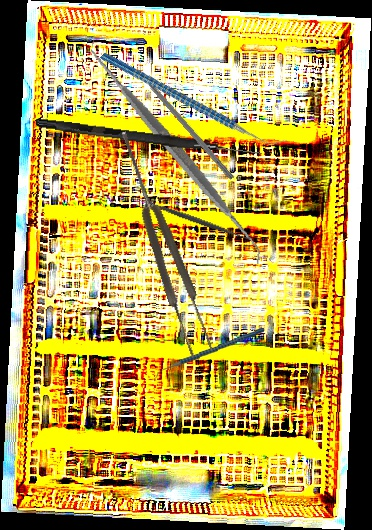Chopper: (99, 2, 288, 196), (131, 58, 241, 181), (151, 328, 267, 381)
Hook Surgical: (35, 118, 263, 158)
Spatula Surgical: (59, 38, 293, 265), (136, 192, 254, 247)
Tissue Forceps: (111, 126, 216, 360)
